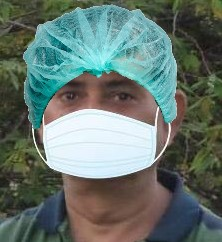with_mask_and_cap: (23, 5, 184, 180)
